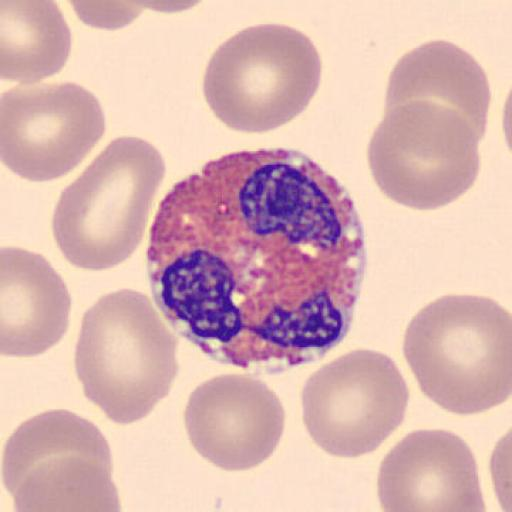RBC: (52, 136, 166, 272), (72, 283, 180, 426), (401, 291, 512, 418), (201, 22, 324, 136), (364, 98, 482, 212), (299, 347, 412, 460), (382, 38, 493, 147), (1, 407, 116, 506), (2, 78, 108, 184), (182, 371, 286, 474), (374, 426, 486, 512), (2, 244, 72, 358), (12, 454, 123, 512), (2, 0, 72, 86), (66, 0, 144, 32), (489, 424, 512, 512), (125, 0, 216, 16), (500, 81, 512, 163)
WBC: (144, 156, 370, 372)
